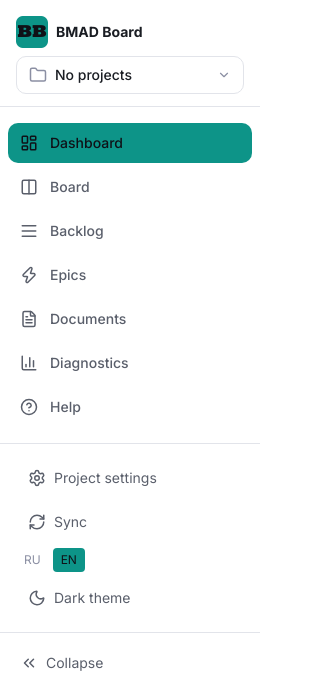
Test: Sidebar sync button › disables button during sync
Click the button titled "Force re-sync all project files" at [130, 522], box x1=16 y1=504 x2=244 y2=540
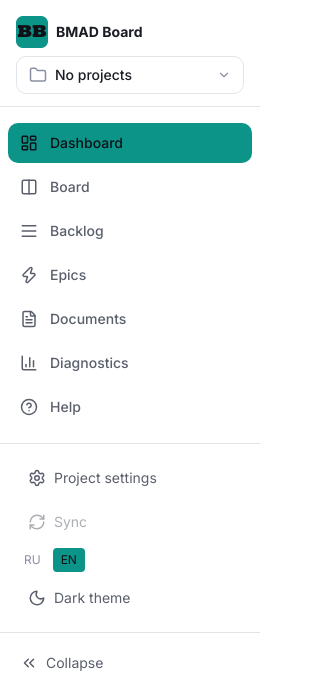
Check: the button titled "Force re-sync all project files" is disabled, box x1=16 y1=504 x2=244 y2=540
